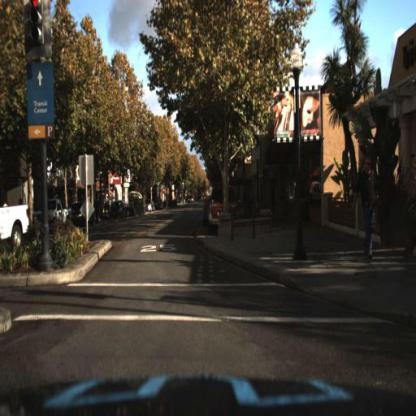car: (35, 194, 77, 236), (207, 186, 241, 230), (105, 200, 130, 226), (143, 197, 159, 213)
pedestrian: (353, 154, 380, 261), (93, 190, 101, 228)
